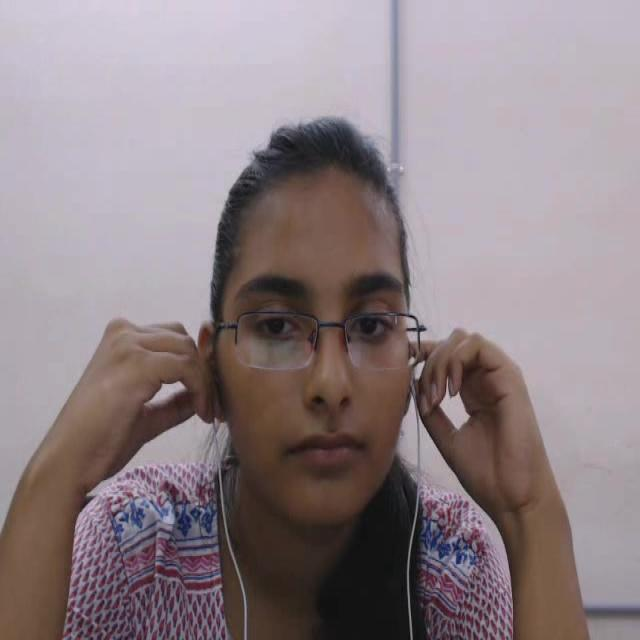Bored: (179, 110, 449, 546)
